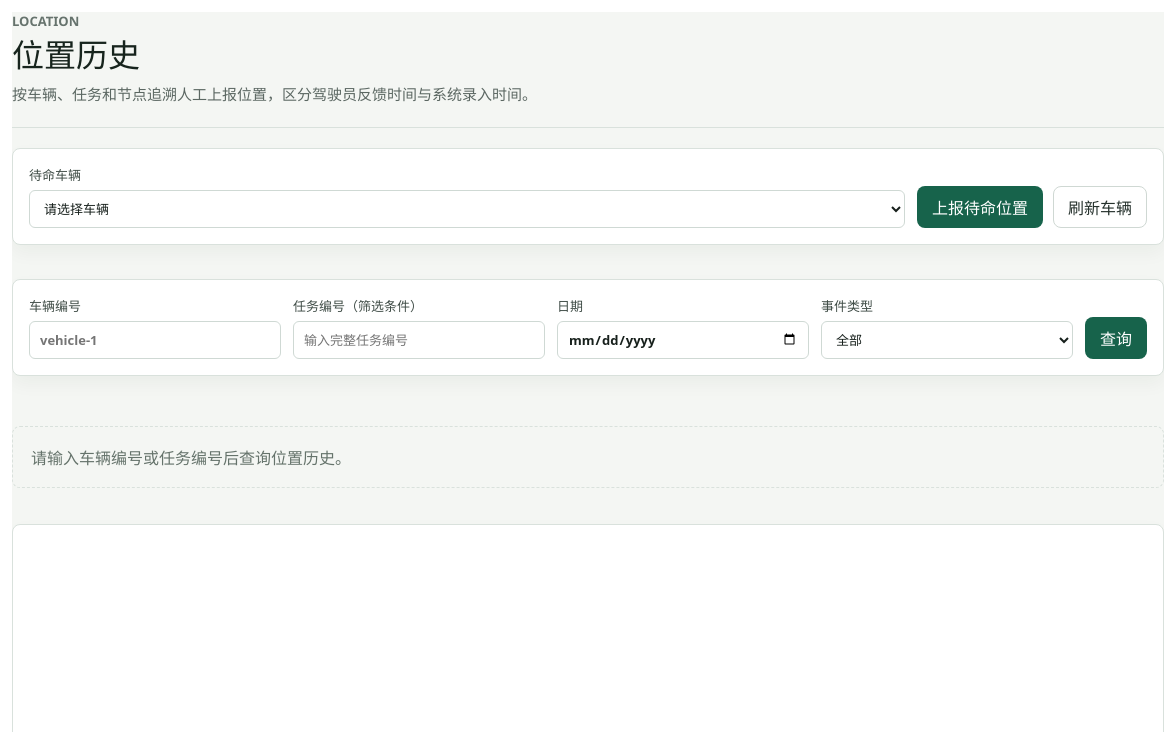
Test: VehicleLocationHistoryPage › does not open the standby panel before a vehicle is selected
Click the button "上报待命位置".
click(980, 207)  # box 917,186 -> 1043,228
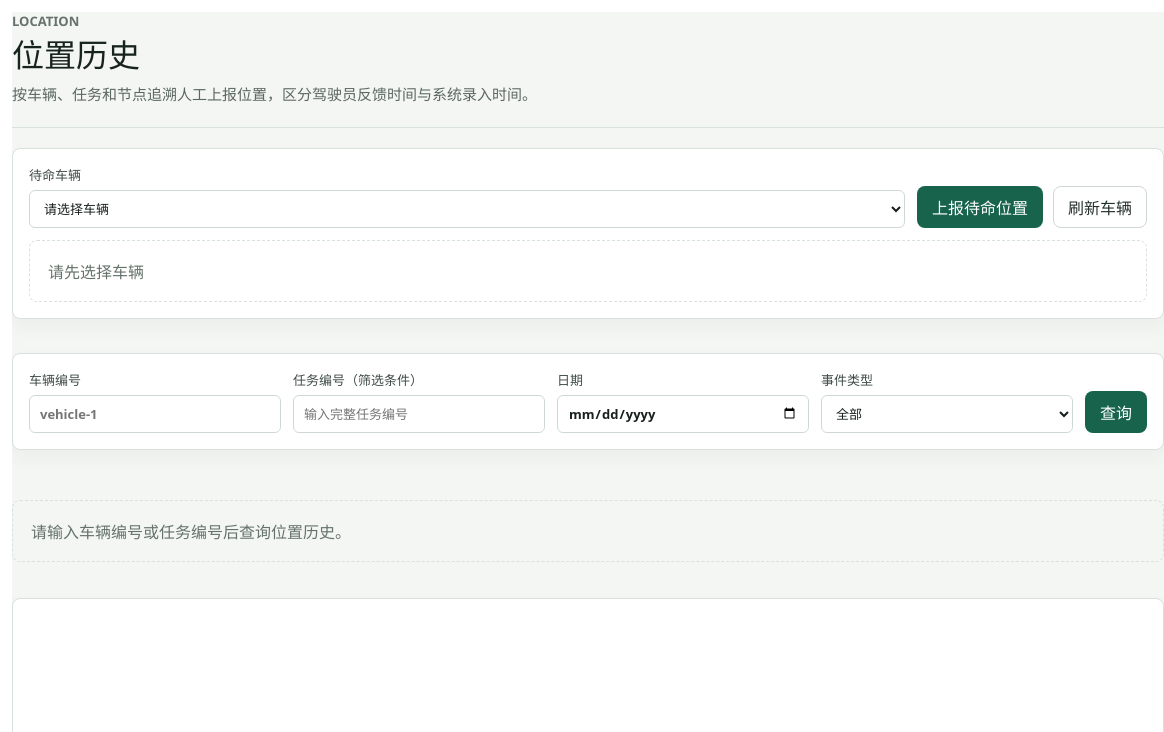
Now the text "请先选择车辆" is shown, box 29,240 -> 1147,302
